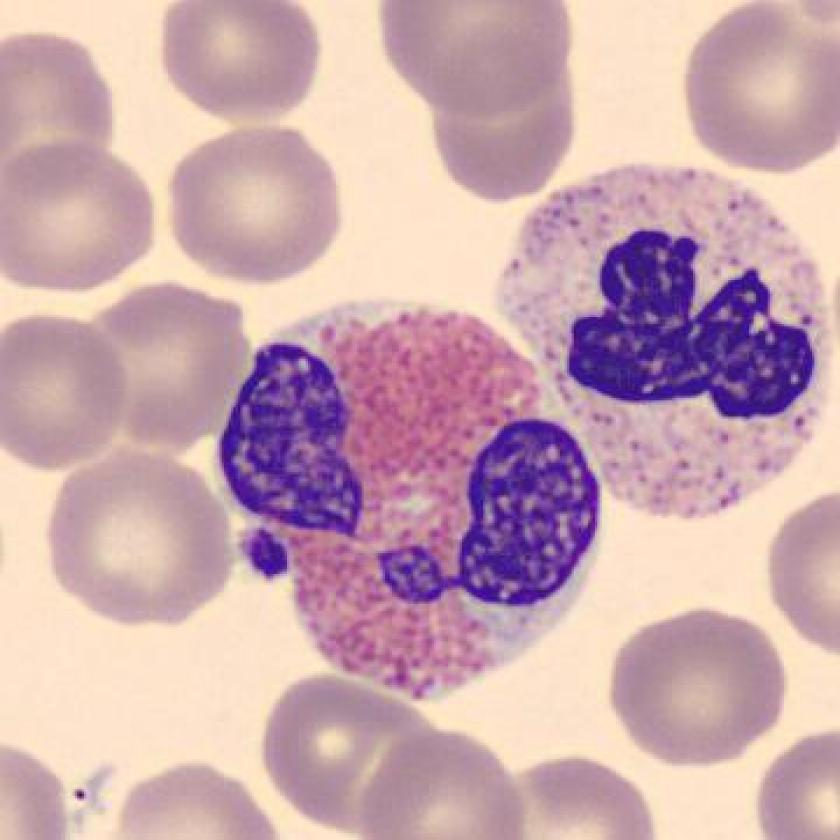eosinophil: (206, 295, 617, 709)
